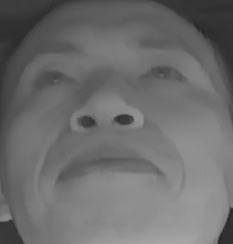eye: (136, 61, 190, 91), (32, 63, 78, 93)
mouth: (53, 142, 166, 193)
